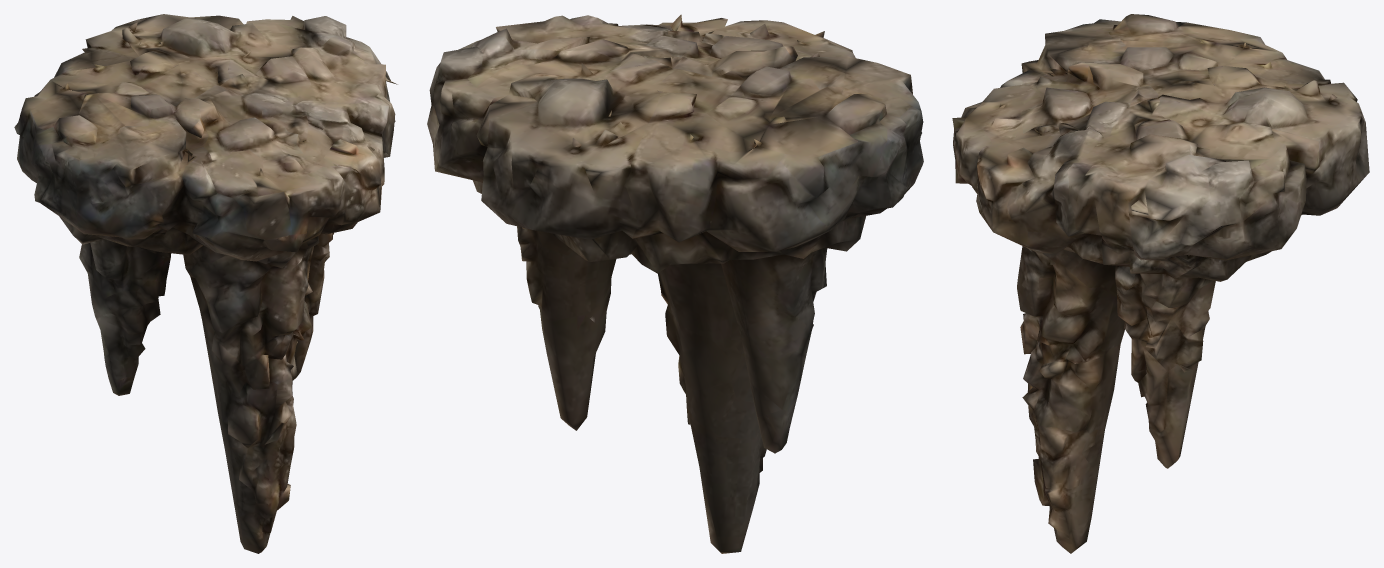
Rendered from cstalac.glb.
The picture shows the model from 3 angles, left to right: view 1: azimuth 30°, elevation 25°; view 2: azimuth 150°, elevation 25°; view 3: azimuth 270°, elevation 25°; orthographic projection. The views are drawn at different scales.
Parts seen in each view (by area): view 1: tripo_node_24bc8c57-efbb-4c62-a367-6b82a37219ea; view 2: tripo_node_24bc8c57-efbb-4c62-a367-6b82a37219ea; view 3: tripo_node_24bc8c57-efbb-4c62-a367-6b82a37219ea.
Boxes of the visible parts, x1=… form: tripo_node_24bc8c57-efbb-4c62-a367-6b82a37219ea: x1=14, y1=14, x2=397, y2=553; tripo_node_24bc8c57-efbb-4c62-a367-6b82a37219ea: x1=427, y1=14, x2=923, y2=553; tripo_node_24bc8c57-efbb-4c62-a367-6b82a37219ea: x1=952, y1=14, x2=1369, y2=553.
Bounding box in the file's own units: 0.8286 × 0.9971 × 0.7934.
1 material, 1 textured.
